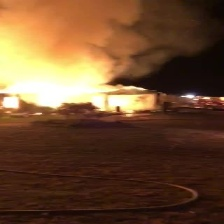fire: (1, 75, 84, 113)
smoke: (1, 4, 200, 62)
